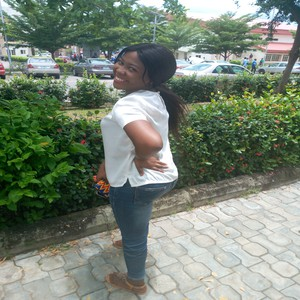Fulokoja_female_student: (102, 45, 183, 289)
